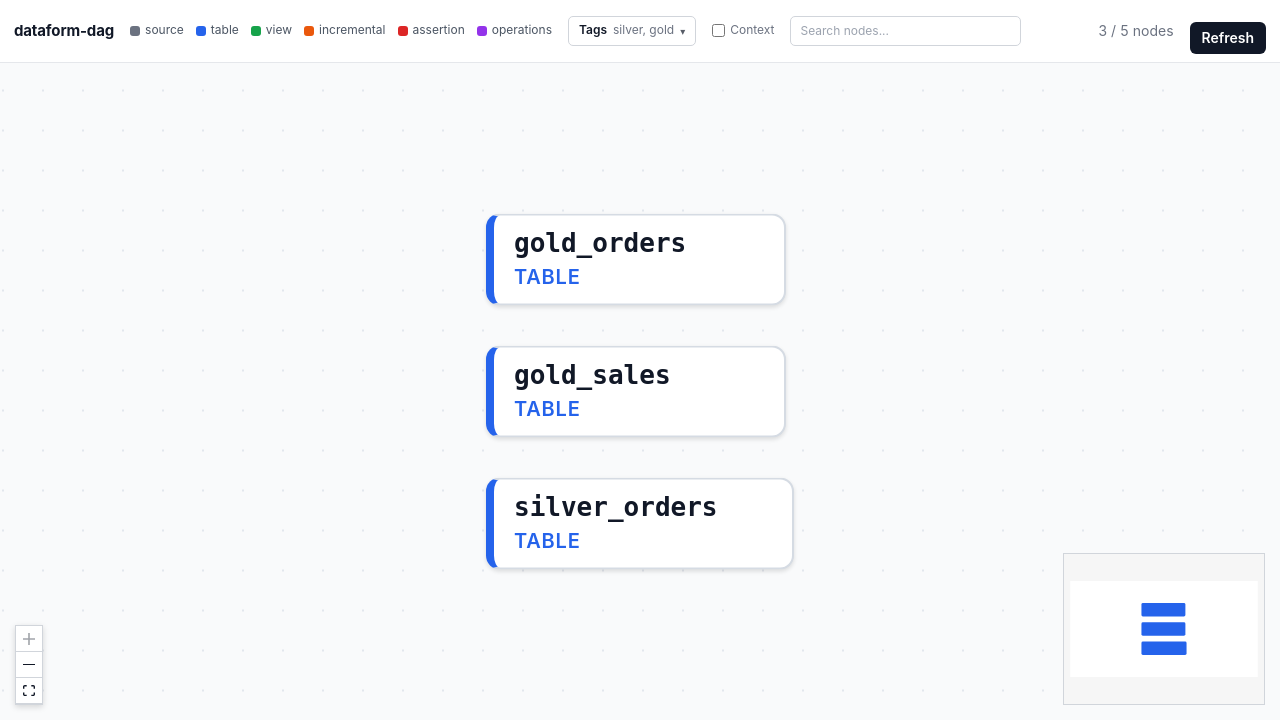
Test case: App › restores persisted tag filters on mount
Expected: the text "3 / 5 nodes" is shown, [1098,21,1174,41]
Expected: the text "silver, gold" is shown, [613,22,674,39]
Click the heading "Tags silver, gold" at (632, 31), box [568,16,696,46]
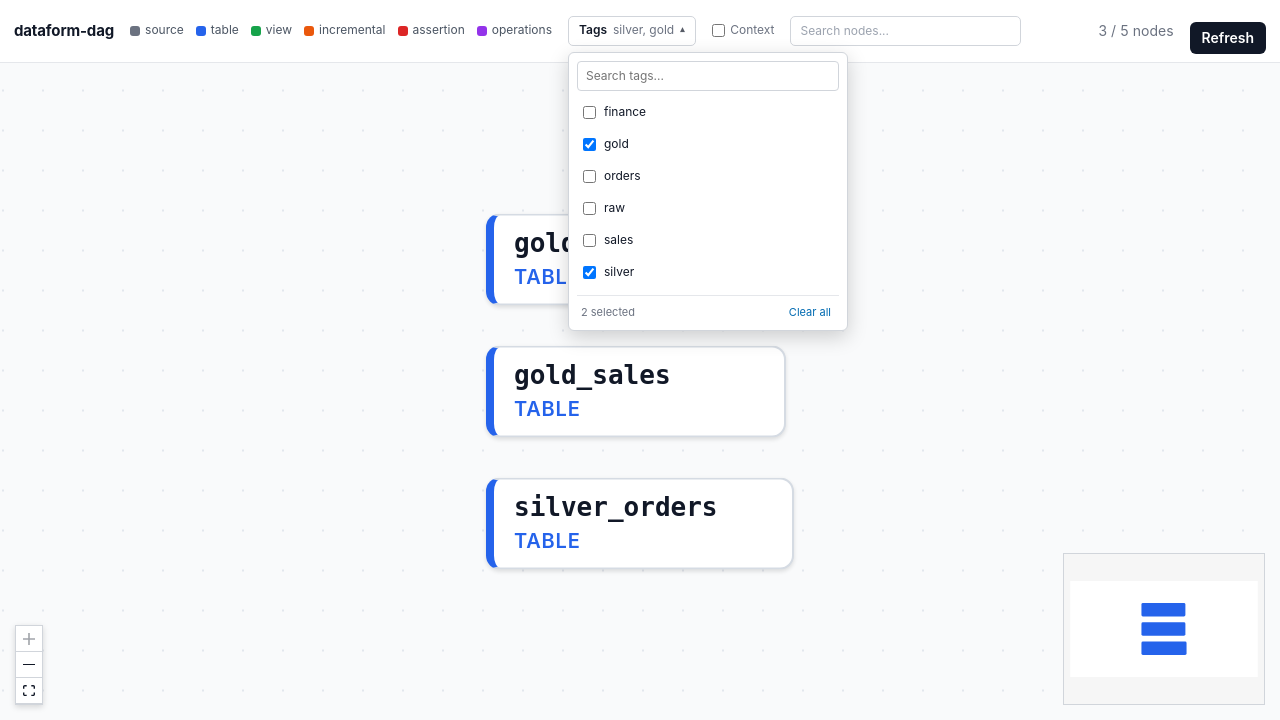
Now the checkbox labelled "silver" is checked, box [583,266,596,279]
Now the checkbox labelled "gold" is checked, box [583,138,596,151]
Now the checkbox labelled "raw" is not checked, box [583,202,596,215]
